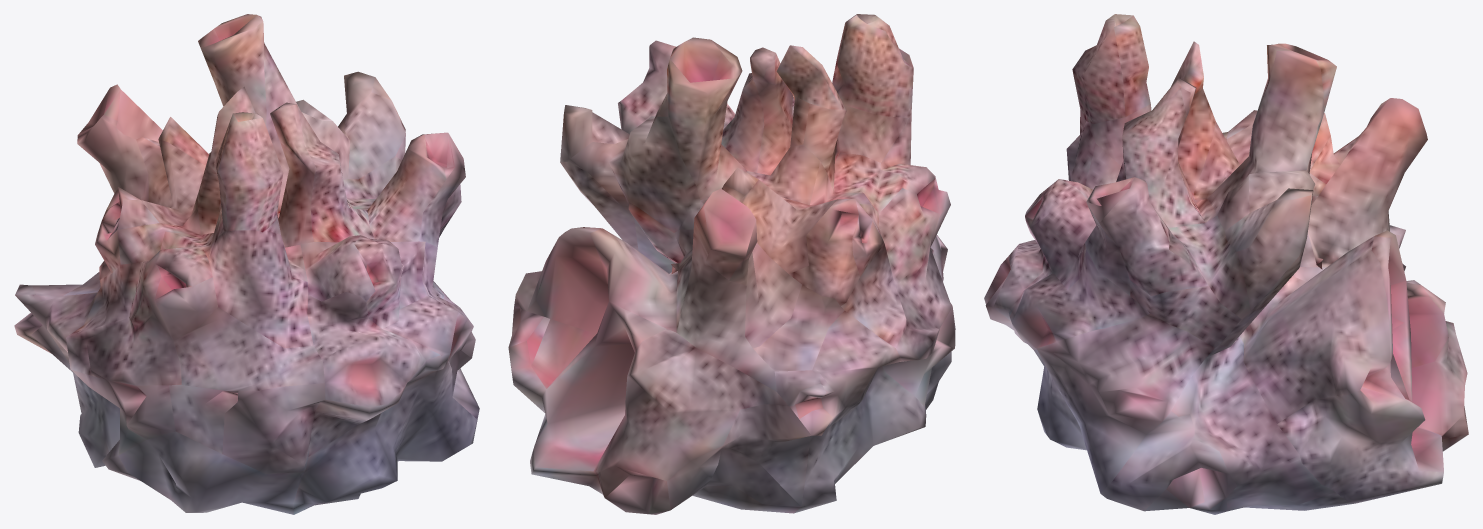
File: colony-cluster.glb
3 views of the same model, side by side, from view 1: azimuth 30°, elevation 25°; view 2: azimuth 150°, elevation 25°; view 3: azimuth 270°, elevation 25° (orthographic).
Parts seen in each view (by area): view 1: tripo_node_451bc14d-34f8-40de-bb16-ded8d7c4cd44; view 2: tripo_node_451bc14d-34f8-40de-bb16-ded8d7c4cd44; view 3: tripo_node_451bc14d-34f8-40de-bb16-ded8d7c4cd44.
Part boxes in pixels (left/top/right/bottom): tripo_node_451bc14d-34f8-40de-bb16-ded8d7c4cd44: left=14, top=14, right=479, bottom=514; tripo_node_451bc14d-34f8-40de-bb16-ded8d7c4cd44: left=508, top=14, right=955, bottom=514; tripo_node_451bc14d-34f8-40de-bb16-ded8d7c4cd44: left=984, top=14, right=1468, bottom=514.
Bounding box in the file's own units: 0.7912 × 0.916 × 0.9476.
Materials: 1 (1 with a texture image).
